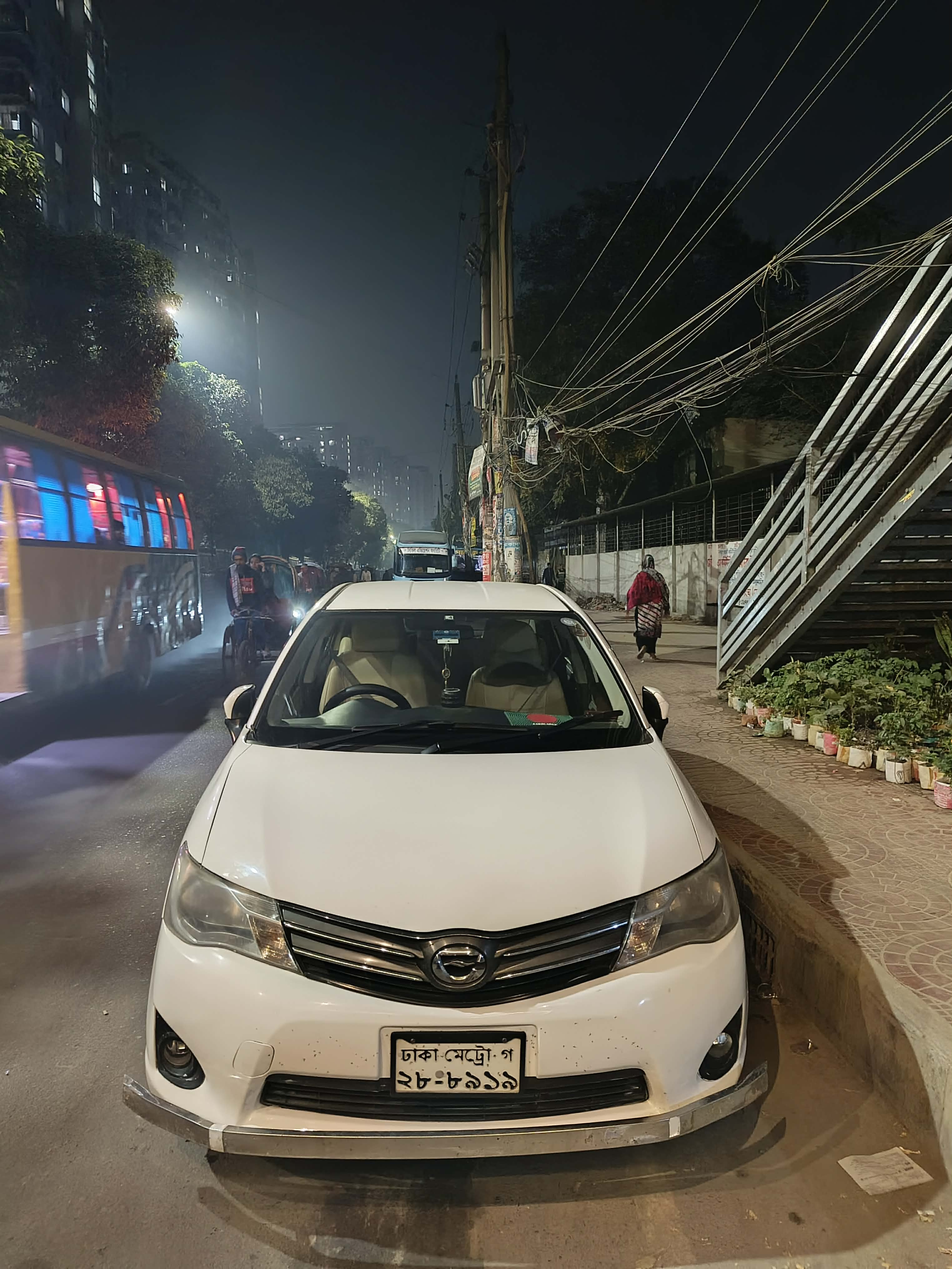private car: (125, 560, 787, 1193)
